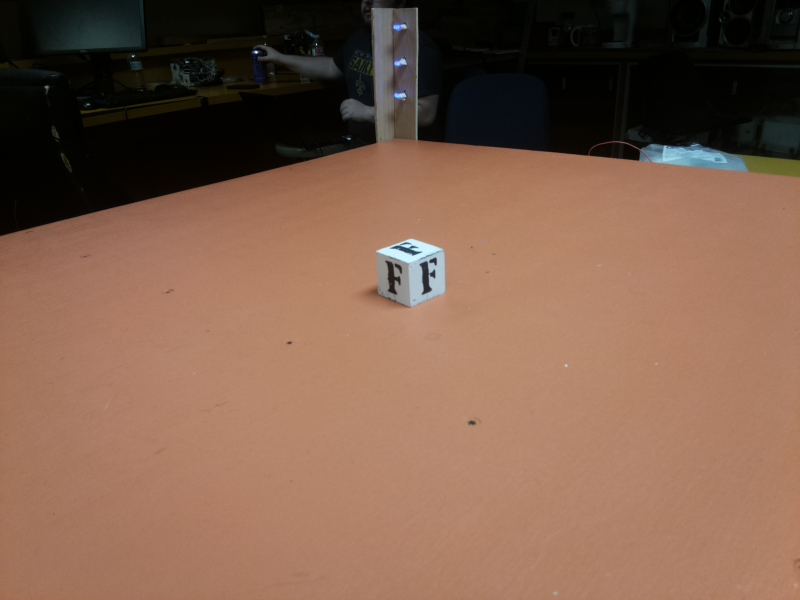blockF: (375, 234, 444, 307)
corner: (369, 6, 419, 141)
